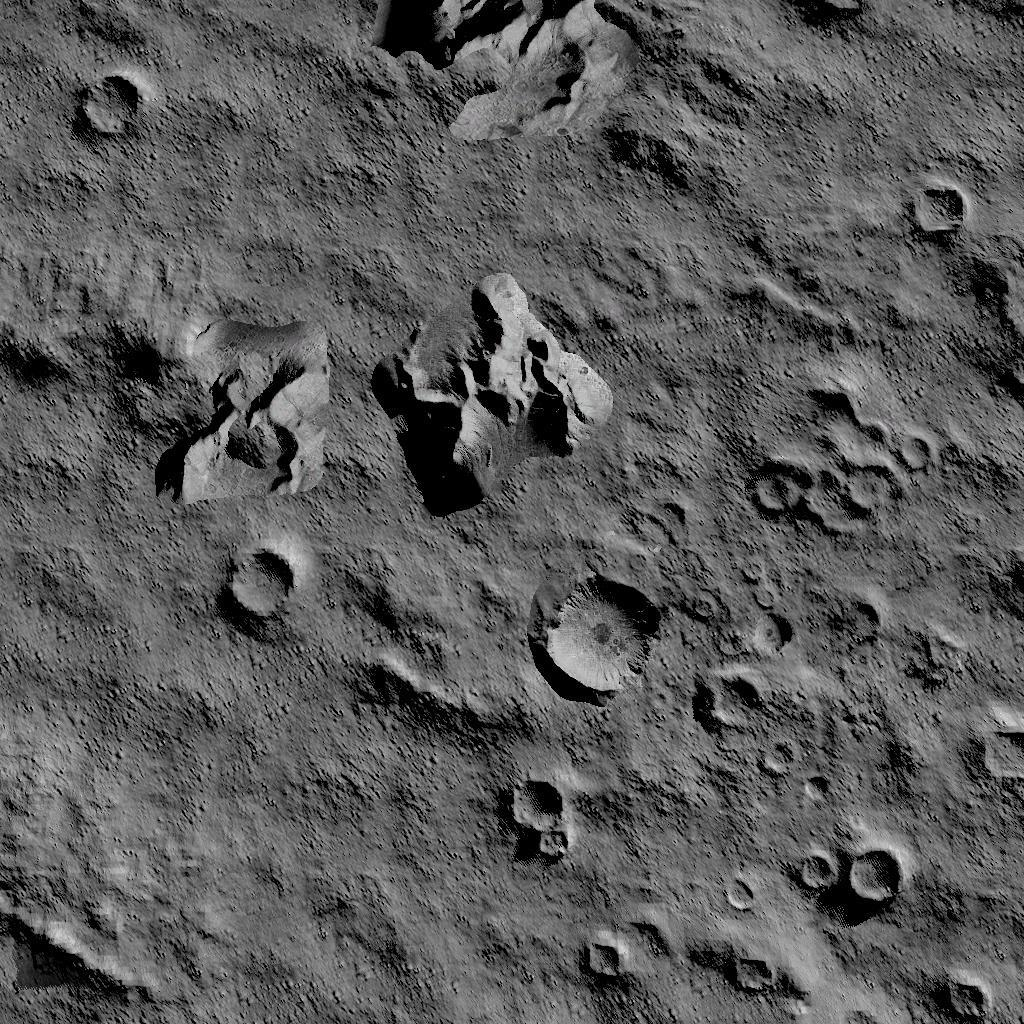Boulders: (368, 274, 607, 520), (363, 0, 639, 147), (104, 326, 317, 514)
Crater: (743, 392, 919, 538), (526, 578, 655, 703), (967, 264, 1024, 415), (216, 550, 294, 632), (498, 783, 570, 871), (798, 846, 904, 903), (68, 74, 146, 140), (686, 676, 760, 736), (904, 184, 968, 244), (964, 729, 1024, 790), (719, 950, 778, 998), (792, 0, 862, 34), (938, 980, 996, 1020), (577, 938, 624, 986), (980, 554, 1024, 604), (749, 617, 794, 665), (746, 746, 789, 776), (718, 880, 758, 912), (797, 778, 829, 804)
Plan surface: (3, 752, 475, 932), (155, 0, 349, 312), (677, 50, 1024, 178), (3, 526, 191, 744)
